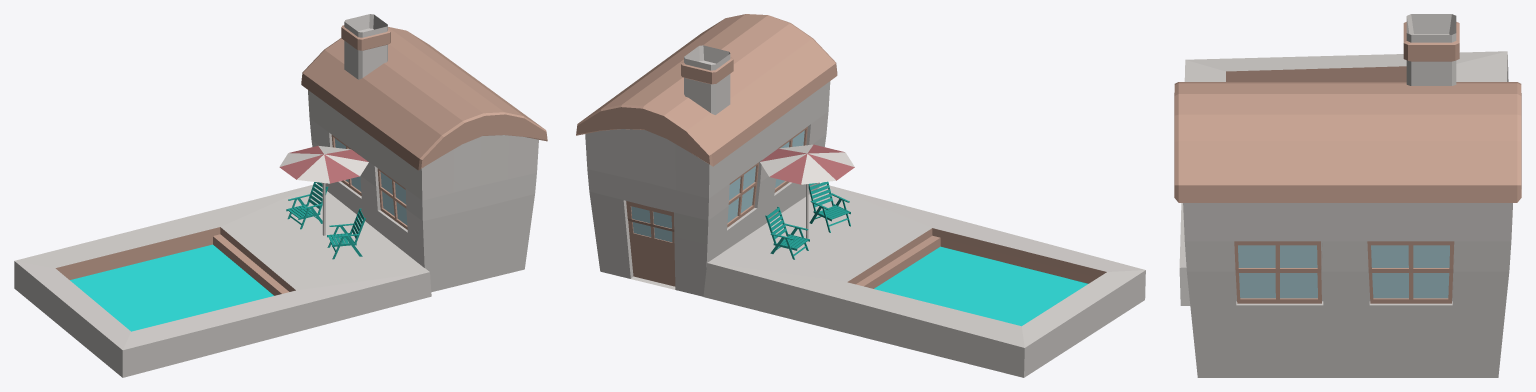
File: house1.fbx
The picture shows the model from 3 angles, left to right: view 1: azimuth 30°, elevation 25°; view 2: azimuth 150°, elevation 25°; view 3: azimuth 270°, elevation 25°; orthographic projection. The views are drawn at different scales.
Visible parts, largest first — view 1: polySurface69; view 2: polySurface69; view 3: polySurface69.
Part boxes in pixels (x1=…): polySurface69: x1=14, y1=14, x2=547, y2=377; polySurface69: x1=576, y1=14, x2=1145, y2=377; polySurface69: x1=1174, y1=14, x2=1521, y2=377.
Bounding box in the file's own units: 5.1 × 2.45 × 2.5.
